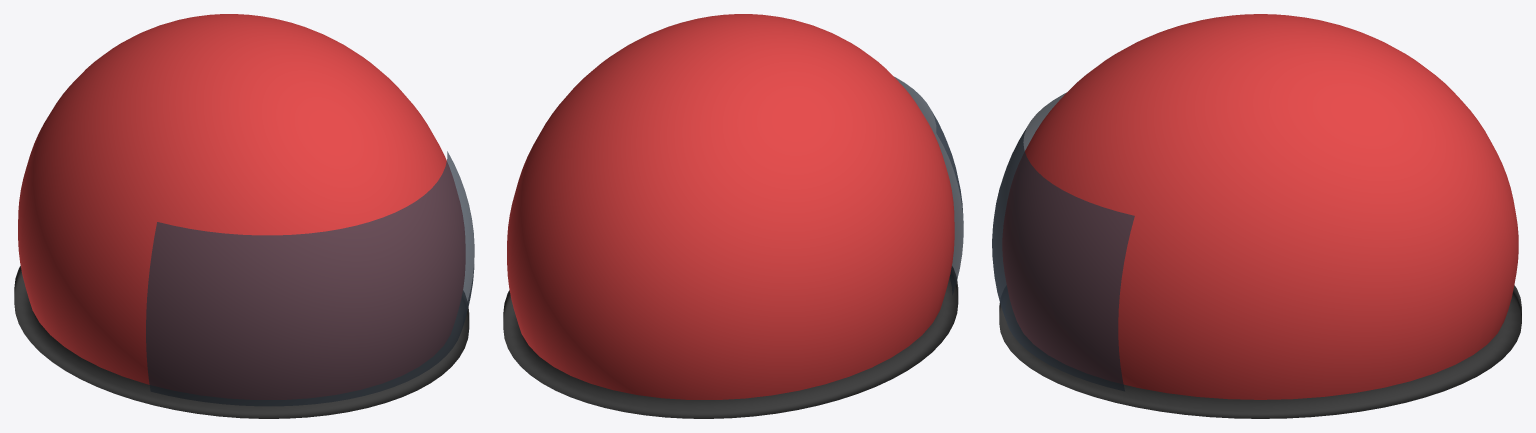
Rendered from helmet.glb.
3 views of the same model, side by side, from view 1: azimuth 30°, elevation 25°; view 2: azimuth 150°, elevation 25°; view 3: azimuth 270°, elevation 25° (orthographic). The views are drawn at different scales.
Visible parts, largest first — view 1: helmet; view 2: helmet; view 3: helmet.
Part boxes in pixels (<box>): helmet: <box>14,14,474,418</box>; helmet: <box>503,14,963,418</box>; helmet: <box>992,14,1521,418</box>.
Size of the model in its own units: 0.264 by 0.185 by 0.3078.
